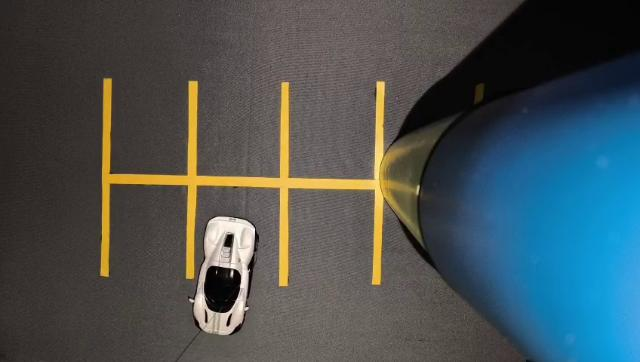toy_car: (184, 196, 277, 345)
